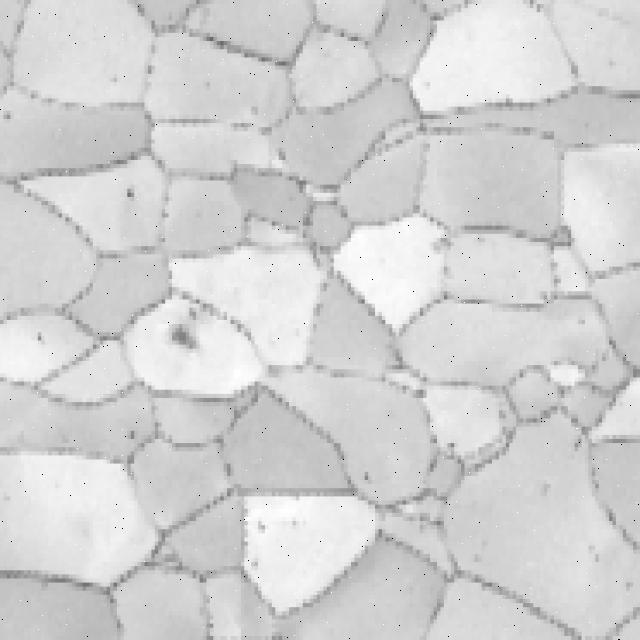good_void: (170, 328, 199, 357), (255, 519, 267, 537), (32, 332, 44, 349), (186, 308, 198, 324), (124, 187, 135, 203), (444, 441, 456, 453), (362, 471, 372, 484)
